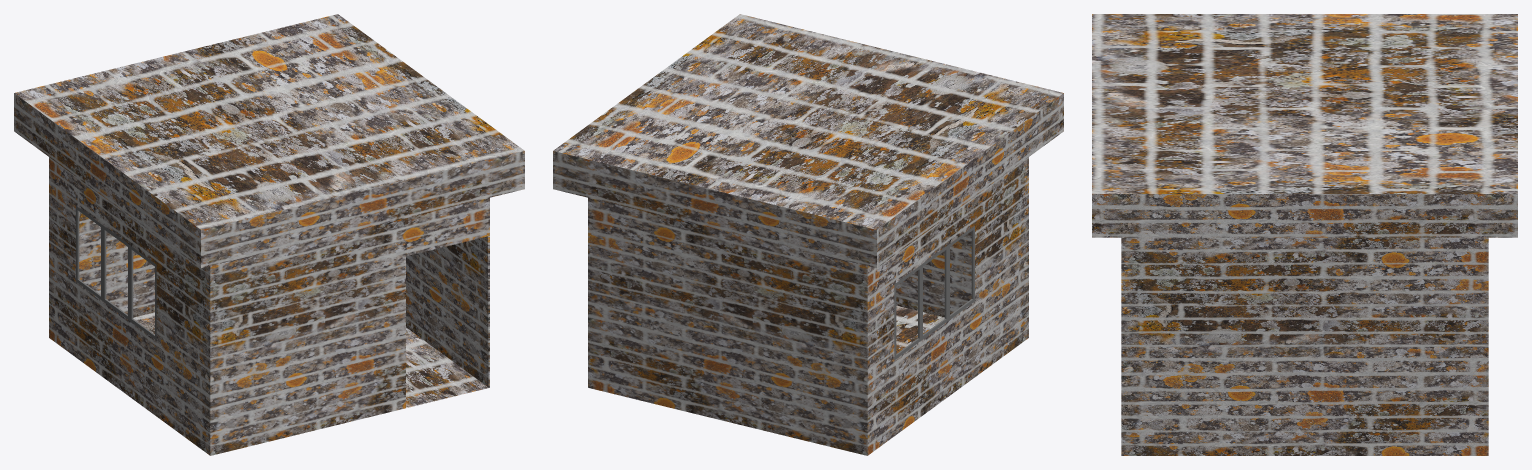
The model's file is mumtee.glb.
3 views of the same model, side by side, from view 1: azimuth 30°, elevation 25°; view 2: azimuth 150°, elevation 25°; view 3: azimuth 270°, elevation 25° (orthographic). The views are drawn at different scales.
Visible parts, largest first — view 1: Cube; view 2: Cube; view 3: Cube.
Boxes of the visible parts, x1,y1,x2,y2 form: Cube: [14, 14, 524, 455]; Cube: [553, 14, 1063, 455]; Cube: [1092, 14, 1517, 455].
Size of the model in its own units: 2 by 1.42 by 2.
2 materials, 1 textured.
